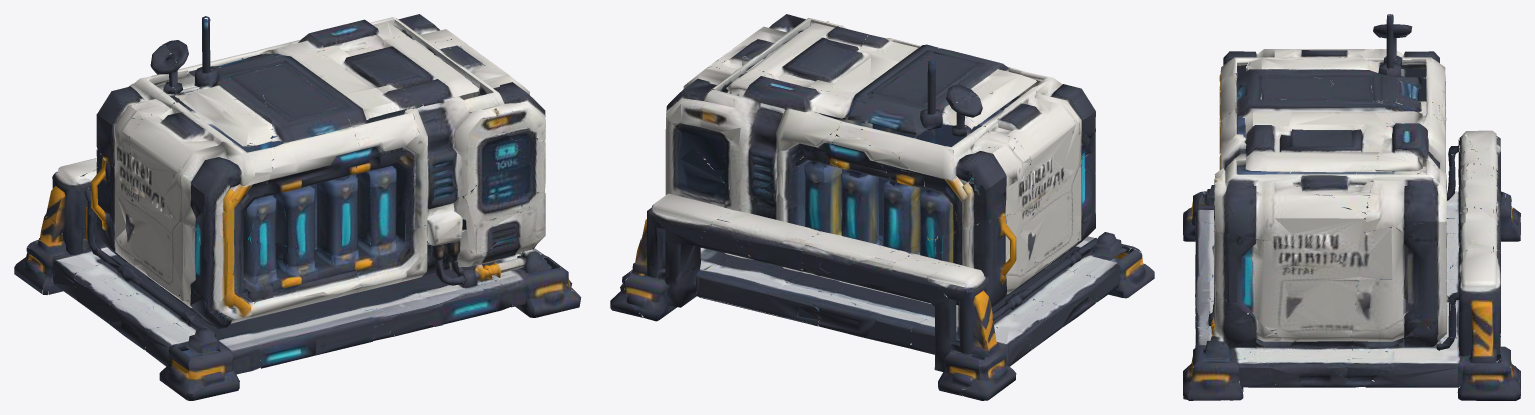
Rendered from LunarBattery.glb.
3 renders of one model, left to right at view 1: azimuth 30°, elevation 25°; view 2: azimuth 150°, elevation 25°; view 3: azimuth 270°, elevation 25°, orthographic. The views are drawn at different scales.
Parts seen in each view (by area): view 1: tripo_node_e551e21c-450d-4203-ac4b-9beeb2356f71; view 2: tripo_node_e551e21c-450d-4203-ac4b-9beeb2356f71; view 3: tripo_node_e551e21c-450d-4203-ac4b-9beeb2356f71.
Boxes of the visible parts, x1,y1,x2,y2 form: tripo_node_e551e21c-450d-4203-ac4b-9beeb2356f71: [14, 14, 581, 400]; tripo_node_e551e21c-450d-4203-ac4b-9beeb2356f71: [610, 14, 1154, 400]; tripo_node_e551e21c-450d-4203-ac4b-9beeb2356f71: [1183, 14, 1520, 400].
Bounding box in the file's own units: 1 × 0.6681 × 0.7803.
Materials: 1 (1 with a texture image).
